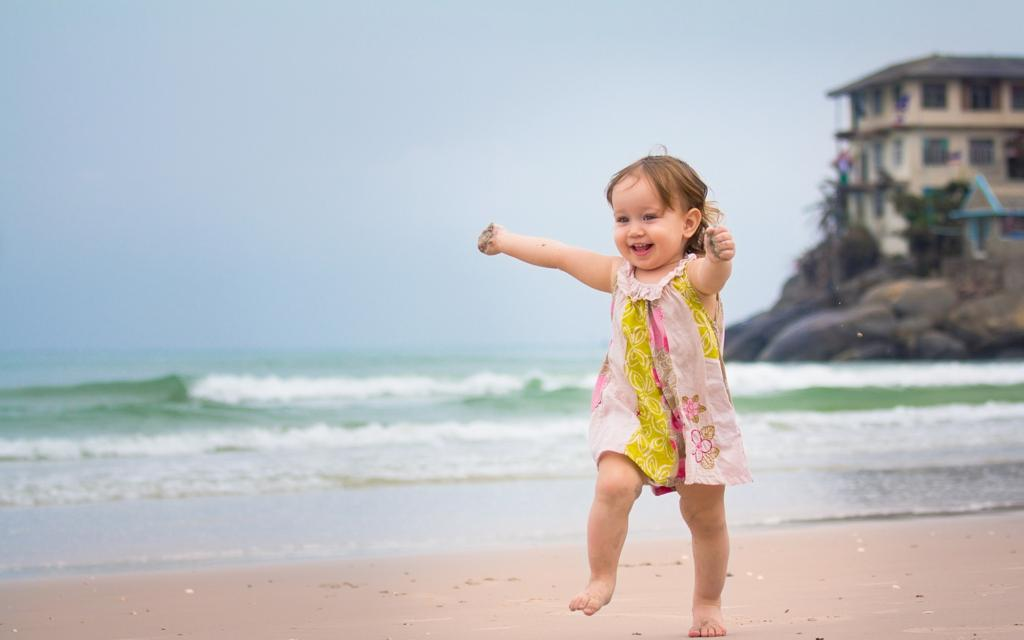face: (615, 179, 689, 265)
